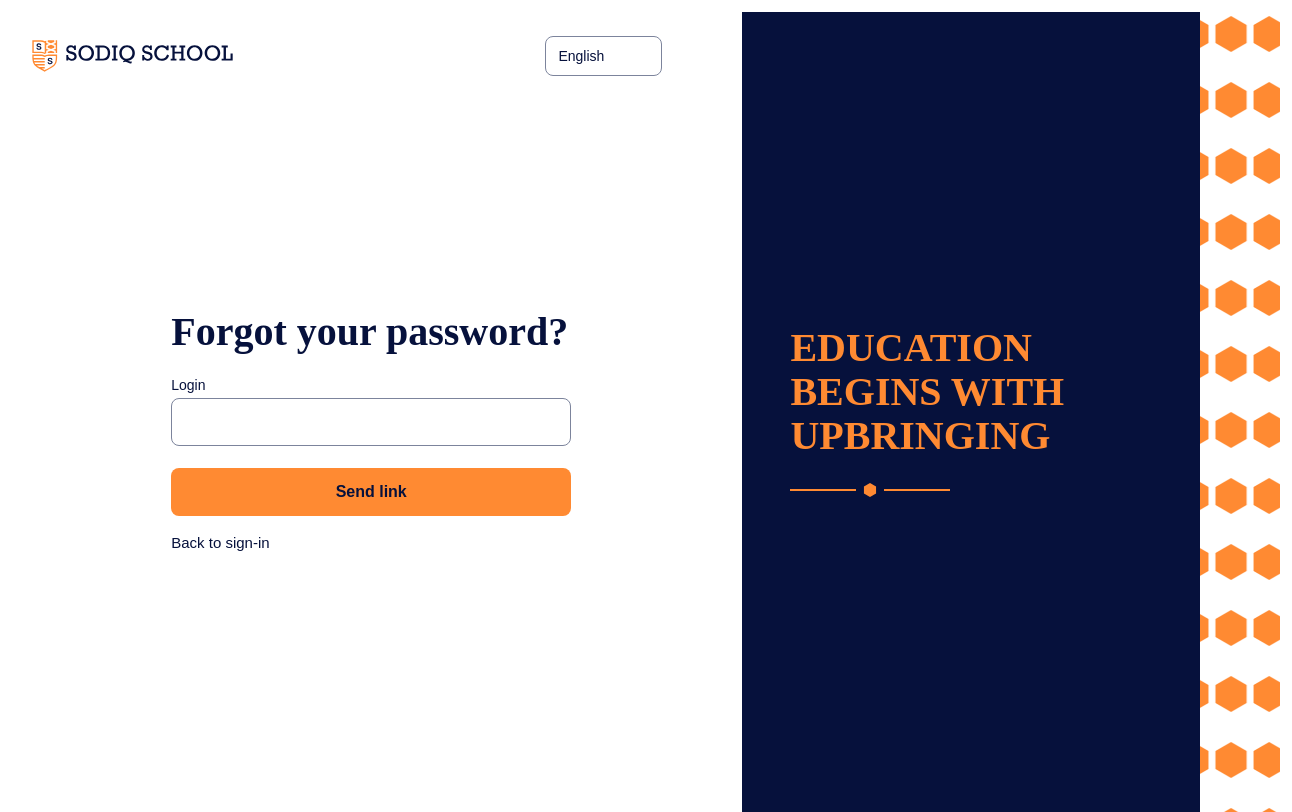
Scenario: "Forgot your password?" › sends the login and then says the same whatever the login is
This screenshot has width=1292, height=812.
Click the button "Send link" at (371, 492), box [171,468,571,516]
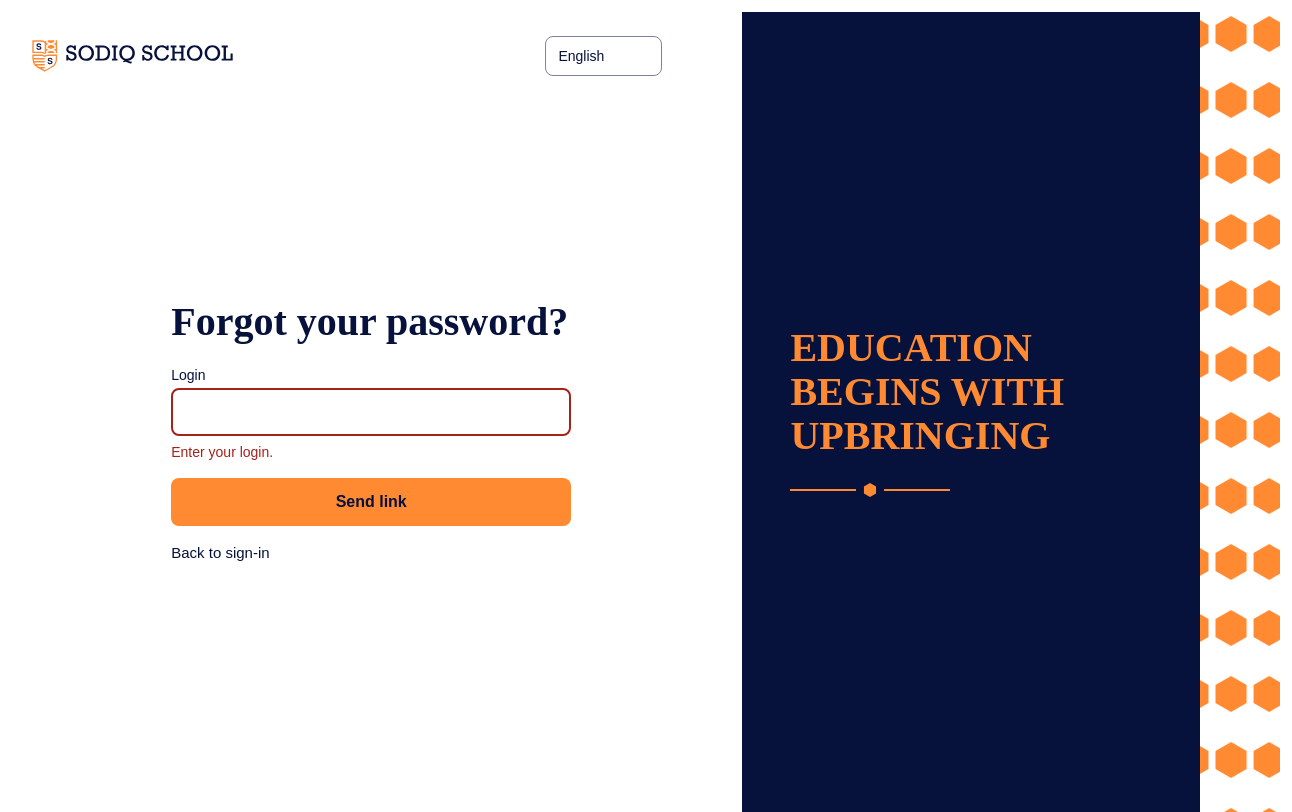
Check: the text "Enter your login." is shown, box [171,444,273,460]
Type "  d.rahimova " into the field labelled "Login" at (371, 412), box [171,388,571,436]
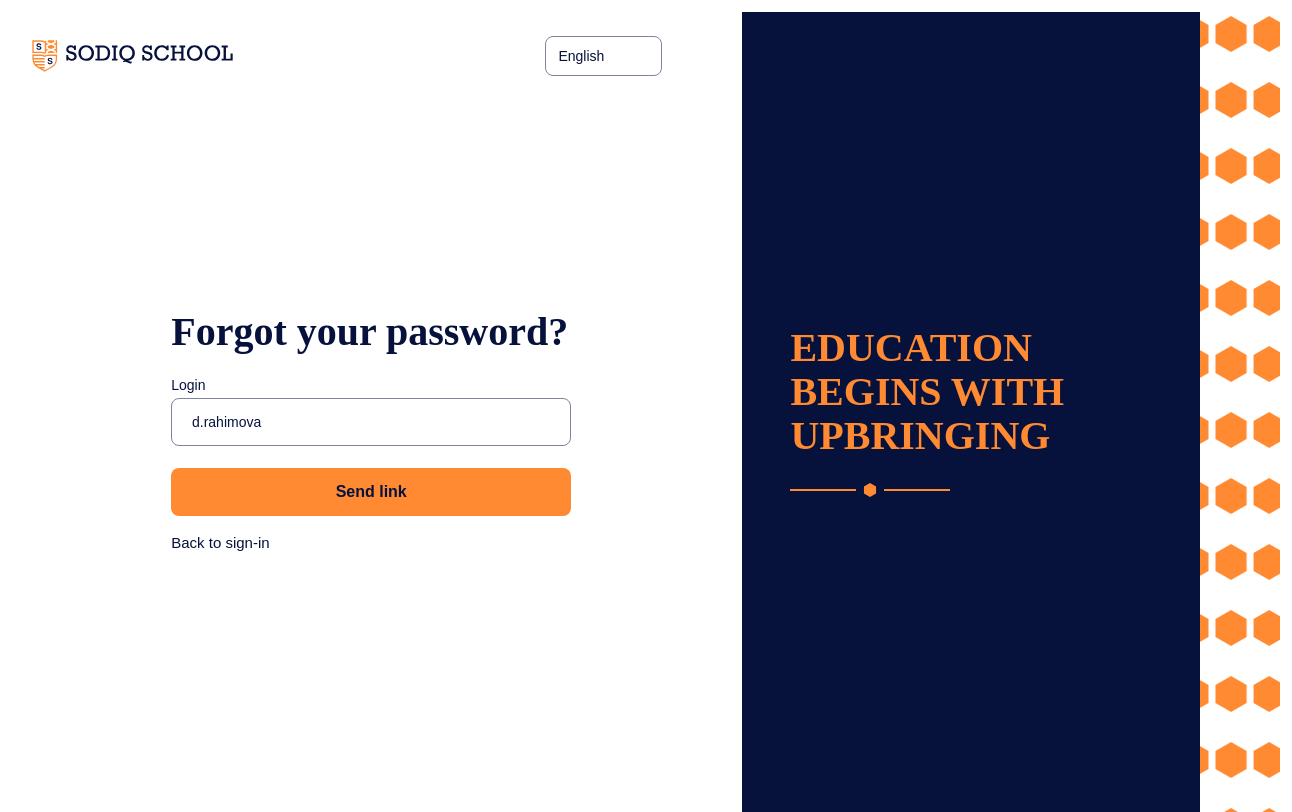
Click the button "Send link" at (371, 492), box [171,468,571,516]
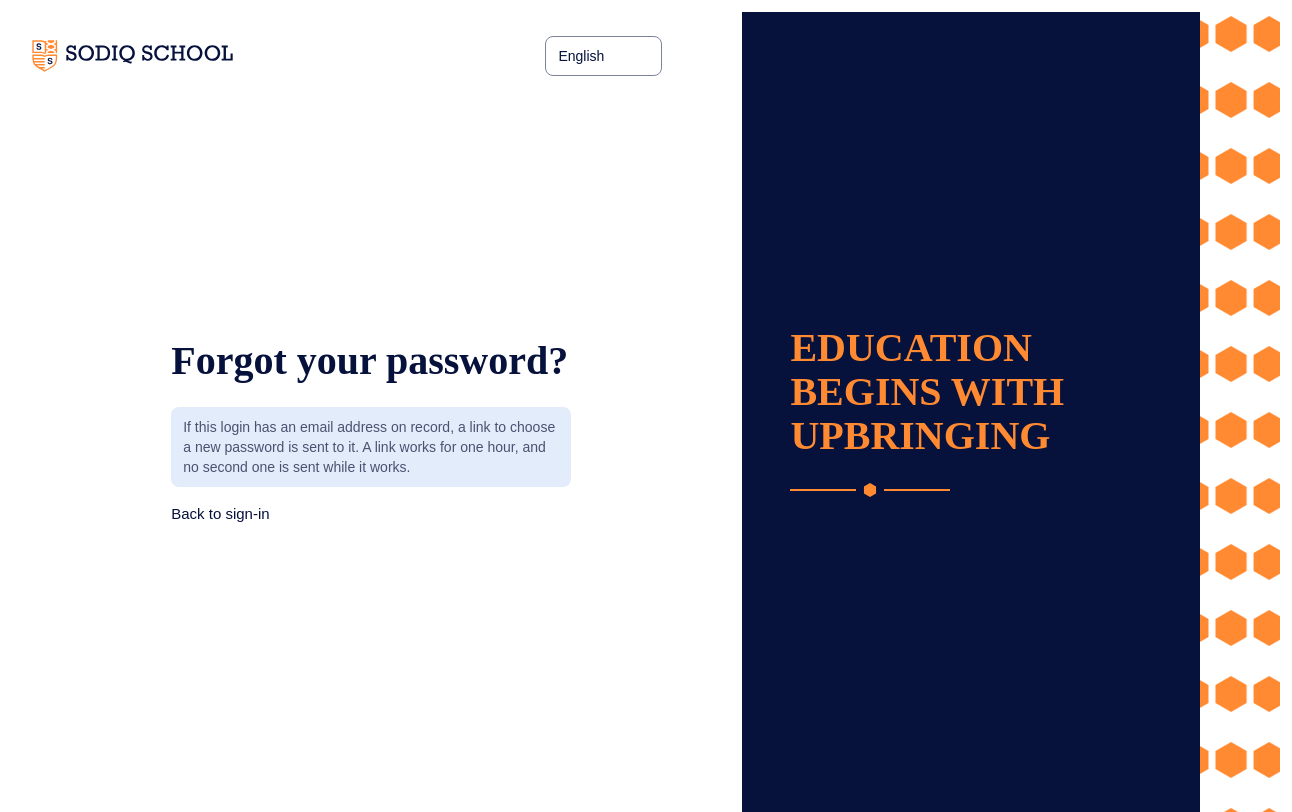
Check: the message shows "If this login has an email address on record, a link to choose a new password is sent to it. A link works for one hour, and no second one is sent while it works", box [183,419,555,475]
